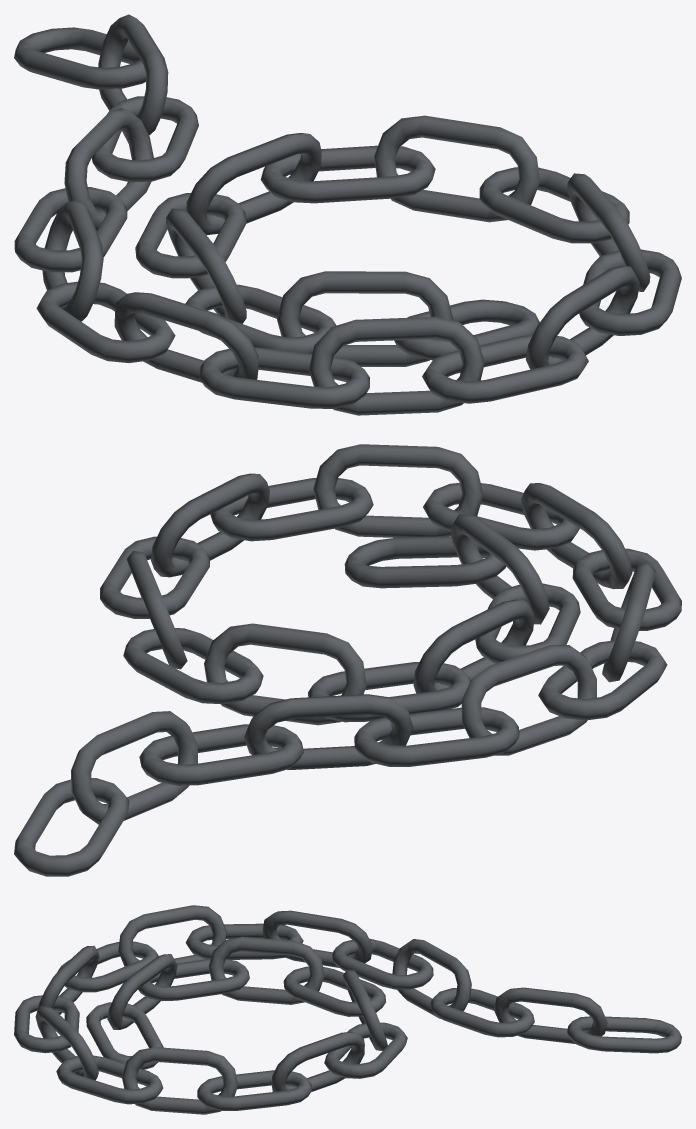
The model's file is SM_LPD_Prison_ChainCoil_01.fbx.
3 views of the same model, one above another, from view 1: azimuth 30°, elevation 25°; view 2: azimuth 150°, elevation 25°; view 3: azimuth 270°, elevation 25° (orthographic). The views are drawn at different scales.
Parts seen in each view (by area): view 1: SM_LPD_Prison_ChainCoil_01; view 2: SM_LPD_Prison_ChainCoil_01; view 3: SM_LPD_Prison_ChainCoil_01.
Boxes of the visible parts, x1,y1,x2,y2 form: SM_LPD_Prison_ChainCoil_01: (14,14,681,415); SM_LPD_Prison_ChainCoil_01: (14,444,681,876); SM_LPD_Prison_ChainCoil_01: (14,905,681,1114).
Bounding box in the file's own units: 0.6838 × 0.0999 × 1.08.
